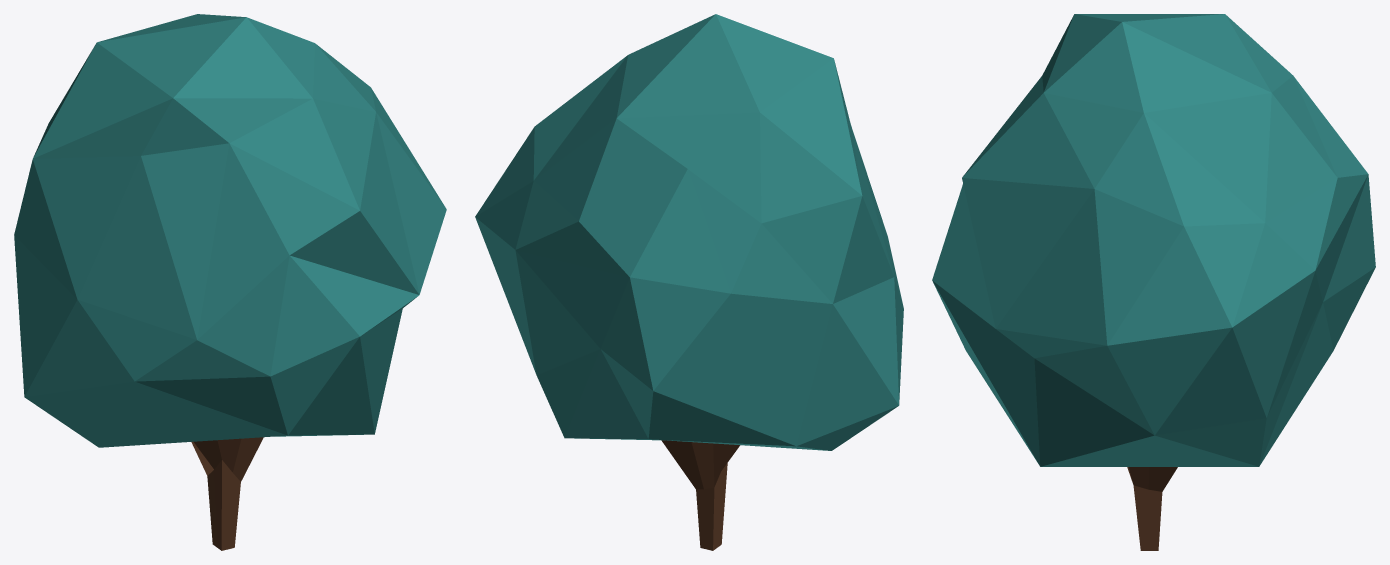
File: Tree_21_Blue.fbx
3 renders of one model, left to right at view 1: azimuth 30°, elevation 25°; view 2: azimuth 150°, elevation 25°; view 3: azimuth 270°, elevation 25°, orthographic. The views are drawn at different scales.
Visible parts, largest first — view 1: Tree_21_Blue_Part_1, Tree_21_Blue_Part_2; view 2: Tree_21_Blue_Part_1, Tree_21_Blue_Part_2; view 3: Tree_21_Blue_Part_1, Tree_21_Blue_Part_2.
Boxes of the visible parts, x1,y1,x2,y2 form: Tree_21_Blue_Part_1: (14, 14, 446, 447); Tree_21_Blue_Part_2: (191, 437, 263, 550); Tree_21_Blue_Part_1: (475, 14, 903, 450); Tree_21_Blue_Part_2: (661, 440, 739, 550); Tree_21_Blue_Part_1: (932, 14, 1375, 466); Tree_21_Blue_Part_2: (1127, 467, 1177, 550).
Bounding box in the file's own units: 616 × 793 × 601.
